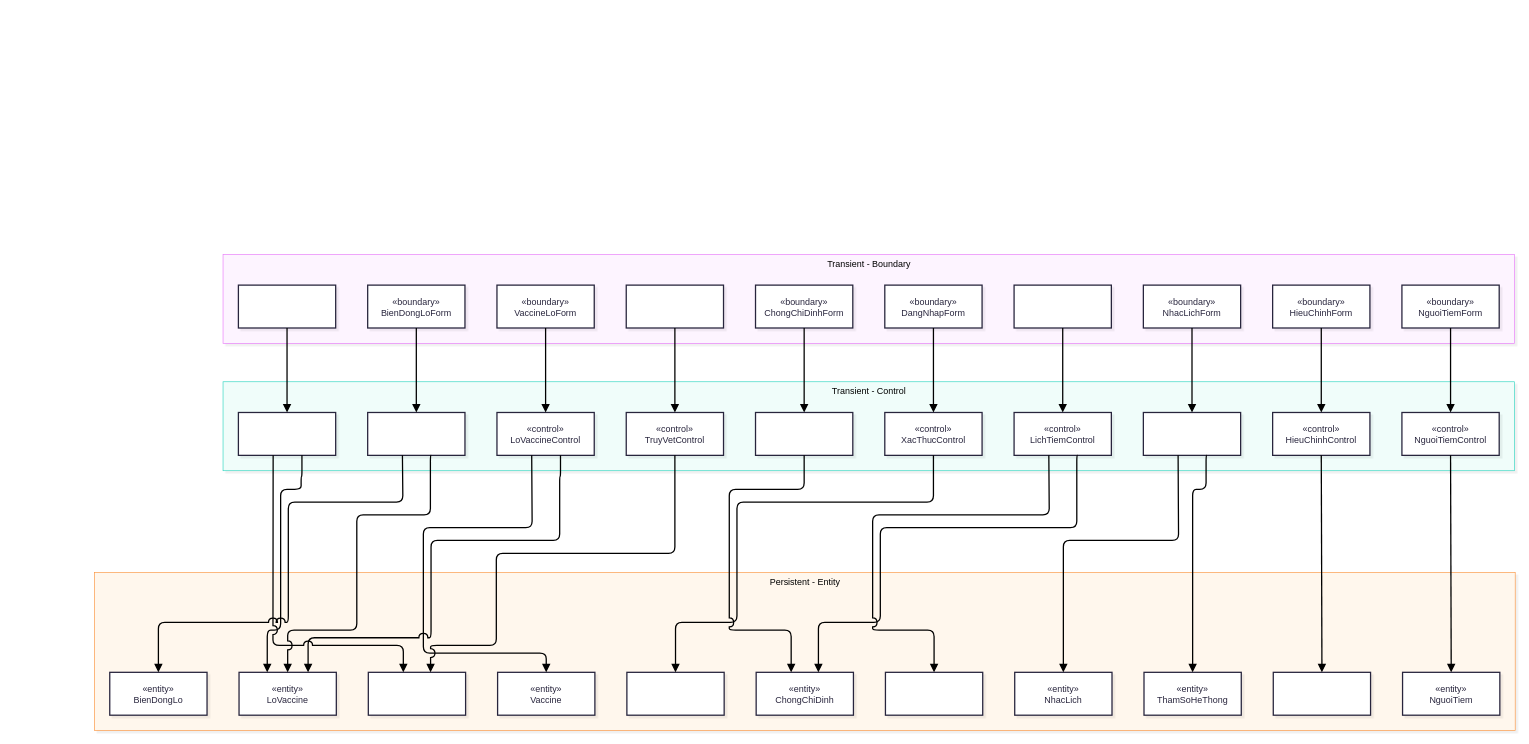
Image size: 1529x744. Some labels were removed from this diagram. The centre of each missing label's shape, as x and y in pixels:
"«boundary» GhiNhanMuiForm" goes at point 288,307.
"«boundary» LichTiemForm" goes at point 1063,307.
"«boundary» TruyVetForm" goes at point 675,307.
"«control» BienDongLoControl" goes at point 417,435.
"«control» ChongChiDinhControl" goes at point 805,435.
"«control» MuiTiemControl" goes at point 288,435.
"«control» NhacLichControl" goes at point 1193,435.
"«entity» LichTiem" goes at point 935,694.
"«entity» MuiTiem" goes at point 417,694.
"«entity» NguoiDung" goes at point 676,694.
"«entity» NhatKyHieuChinh" goes at point 1322,694.
